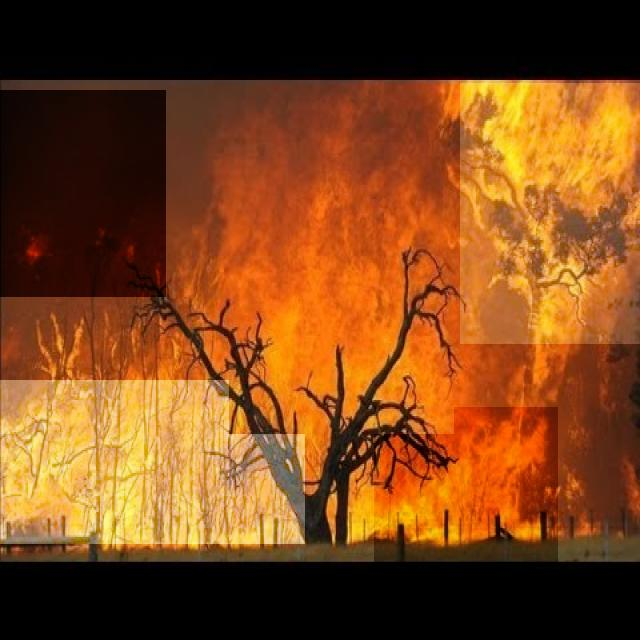Fire: (229, 142, 454, 434), (0, 380, 305, 544), (460, 83, 640, 344), (374, 407, 558, 567)
Smoke: (0, 90, 166, 297)
